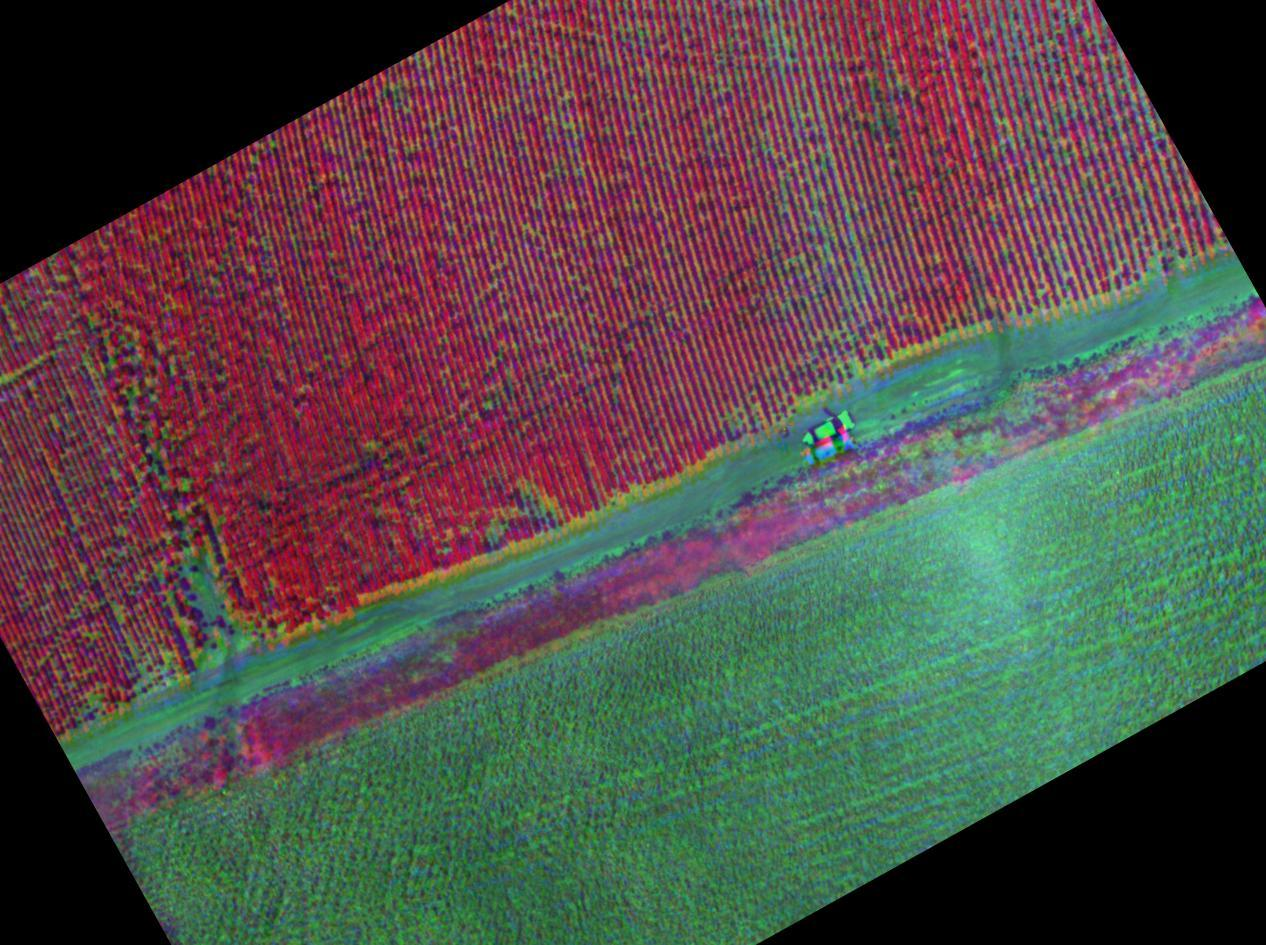dc: (142, 504, 265, 659), (781, 249, 893, 387), (454, 467, 573, 553), (843, 54, 947, 151)
